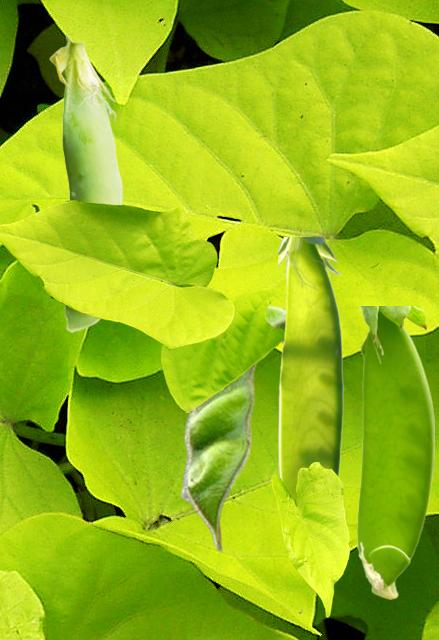pea: (179, 304, 284, 551), (357, 306, 433, 598), (49, 33, 122, 331), (278, 237, 343, 500)
